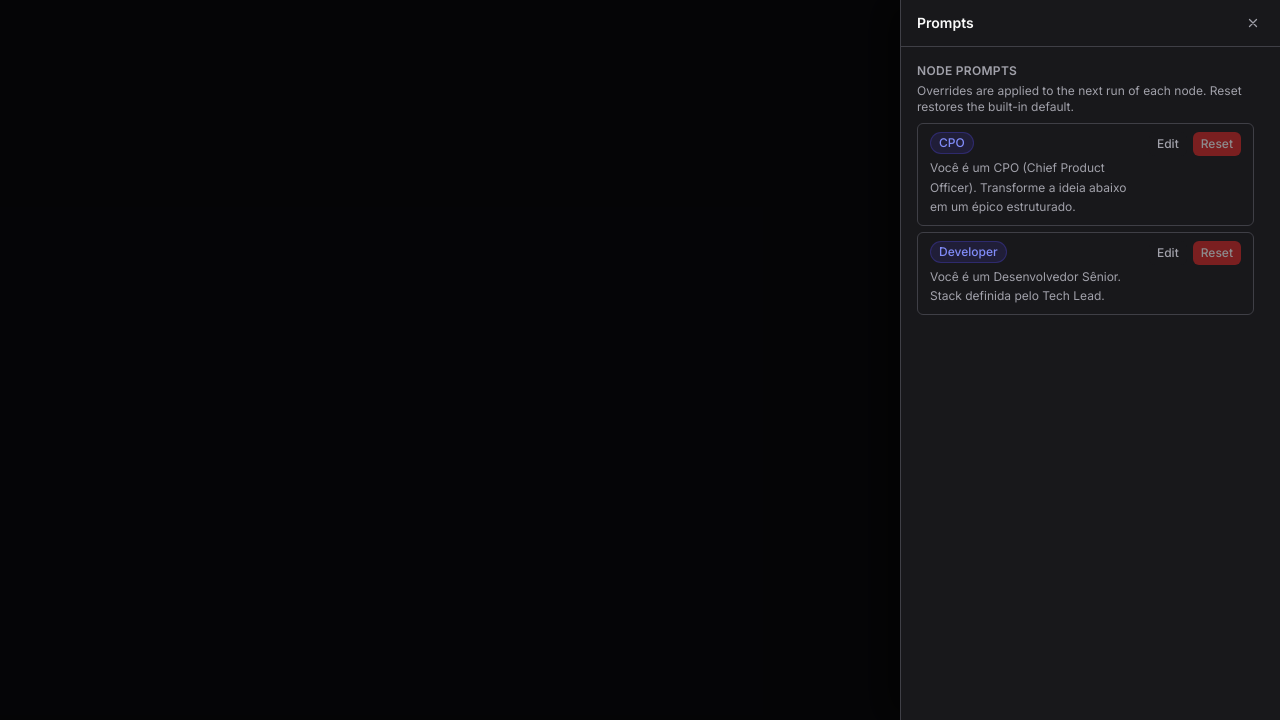
Test: PromptPanel (prompt central) › enables Reset after saving and resets via deletePrompt(node)
The image size is (1280, 720).
Check: the text "CPO" is shown, box [930,132,974,154]
# Salva um override → botão Reset do nó habilita.
Click the button with aria-label "Edit cpo prompt" at (1168, 144), box [1149,132,1187,156]
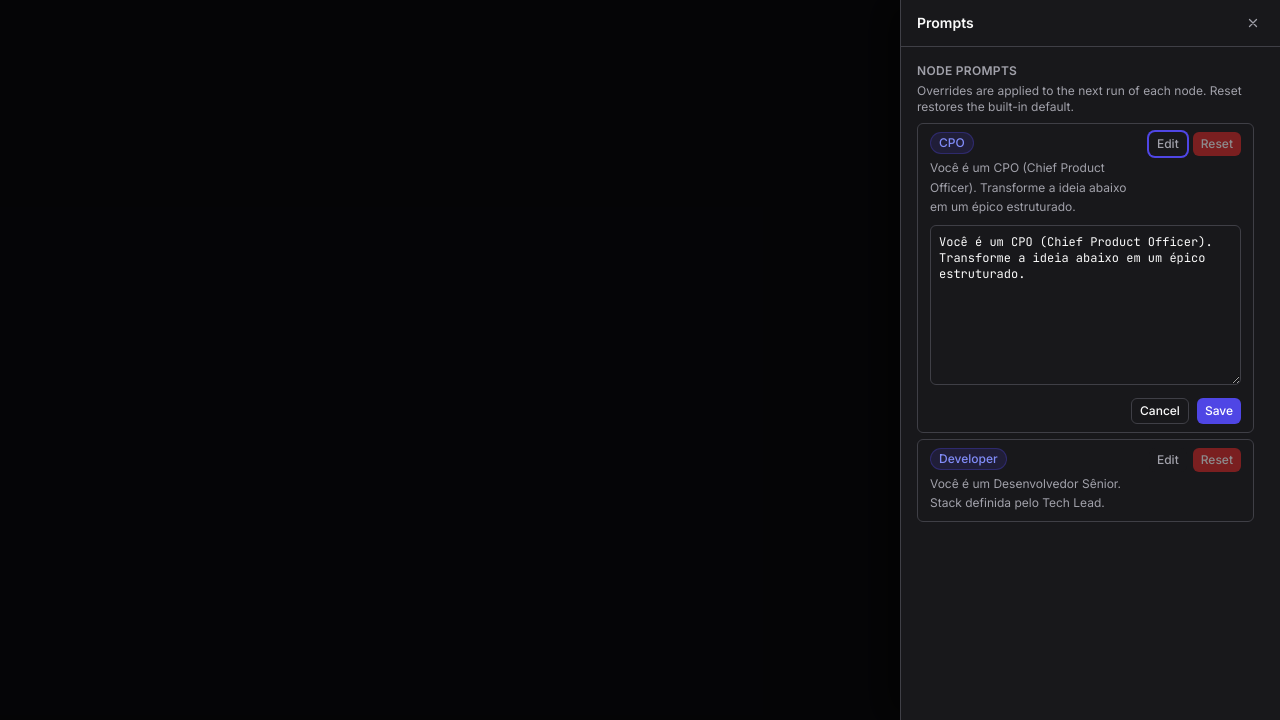
Replace the text in the text box named "cpo prompt text" with "Novo prompt." at (1086, 304), box [930,224,1241,384]
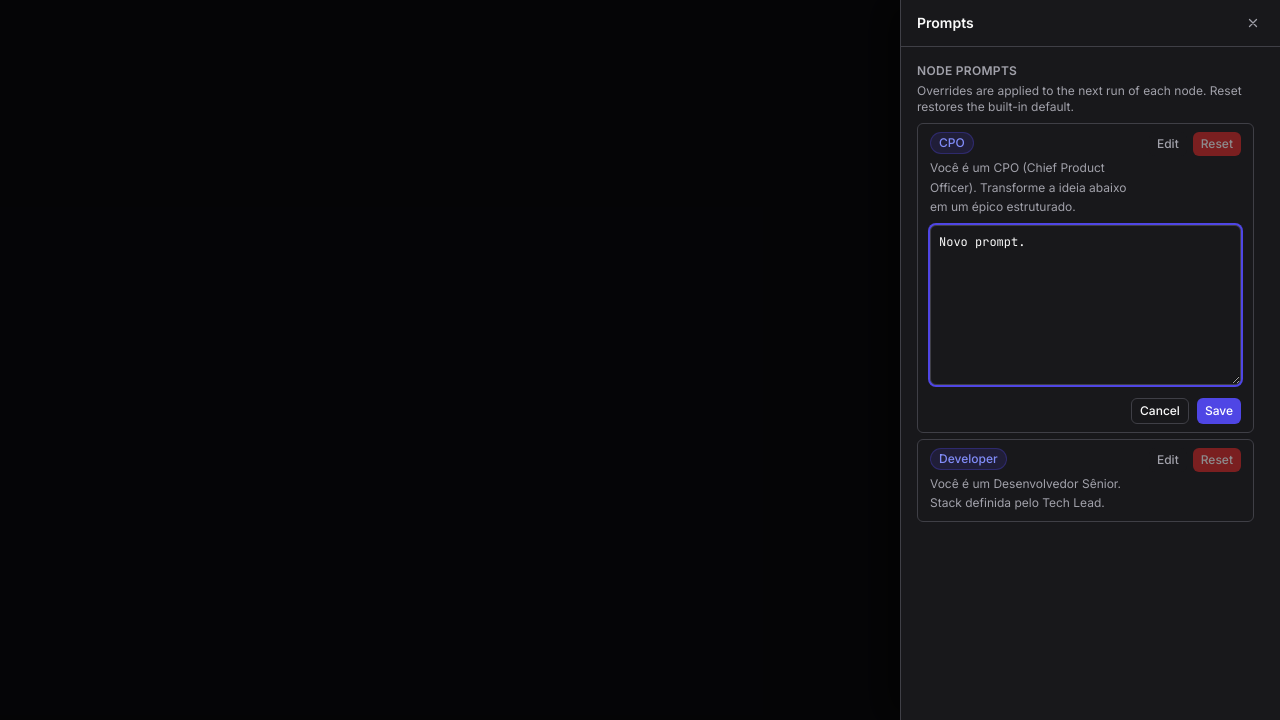
Click the button "Save" at (1219, 410), box [1197,398,1241,424]
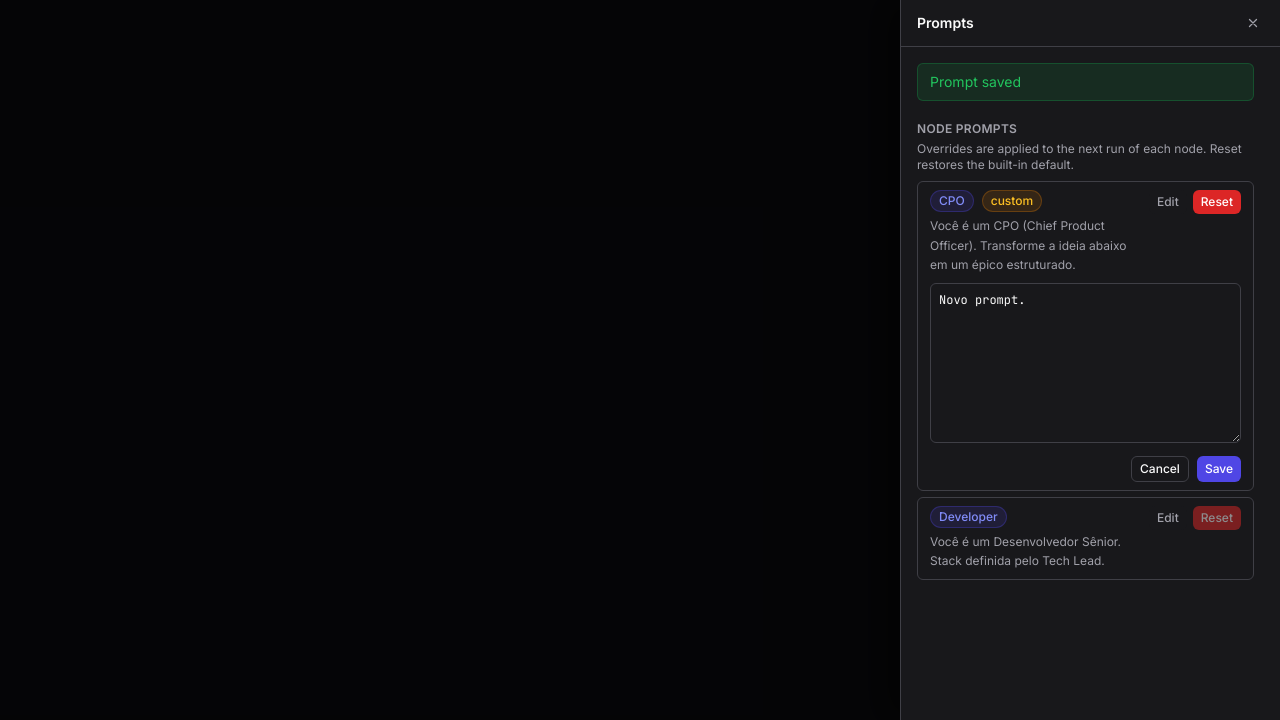
Check: the button with aria-label "Reset cpo prompt" is enabled
# Reset chama deletePrompt e desabilita de novo (volta ao default).
Click the button with aria-label "Reset cpo prompt" at (1217, 202), box [1193,190,1241,214]
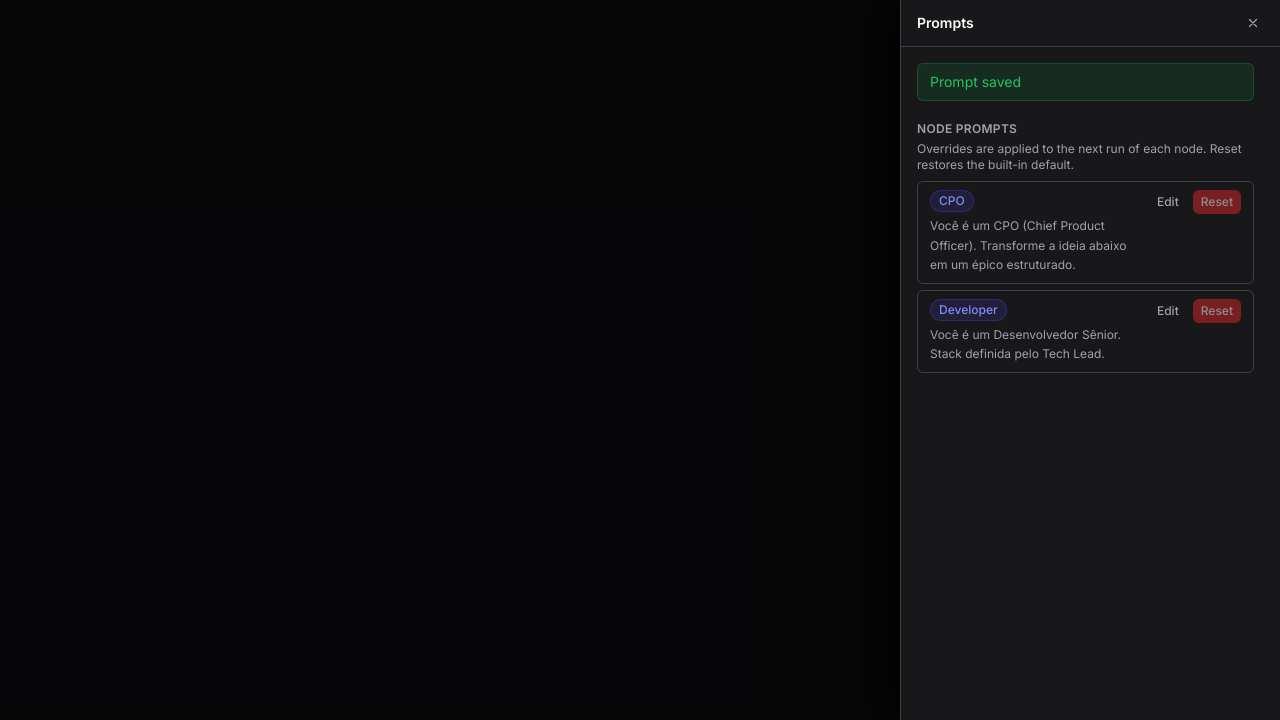
Check: the button with aria-label "Reset cpo prompt" is disabled, box [1193,190,1241,214]
